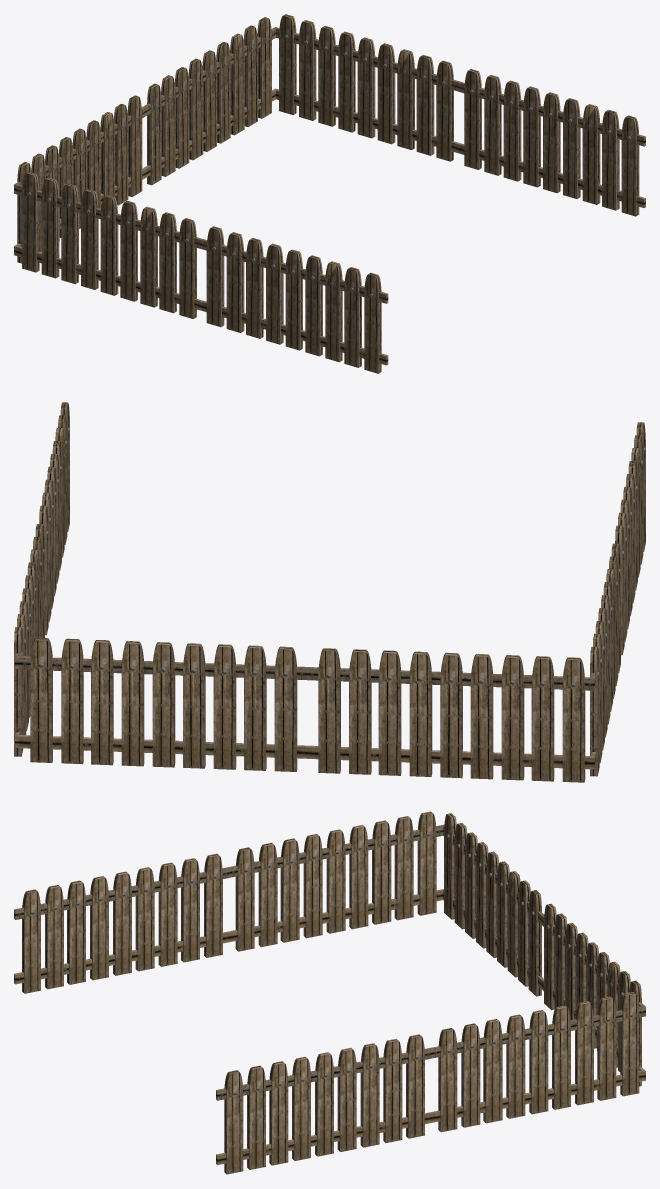
File: Valla_2.fbx
3 renders of one model, top to bottom at view 1: azimuth 30°, elevation 25°; view 2: azimuth 150°, elevation 25°; view 3: azimuth 270°, elevation 25°, orthographic. The views are drawn at different scales.
Visible parts, largest first — view 1: Cube.014; view 2: Cube.014; view 3: Cube.014.
Part boxes in pixels (x1,y1,x2,y2): Cube.014: (14,14,645,373); Cube.014: (14,402,645,782); Cube.014: (14,811,645,1174).
Bounding box in the file's own units: 160 × 27.95 × 160.
